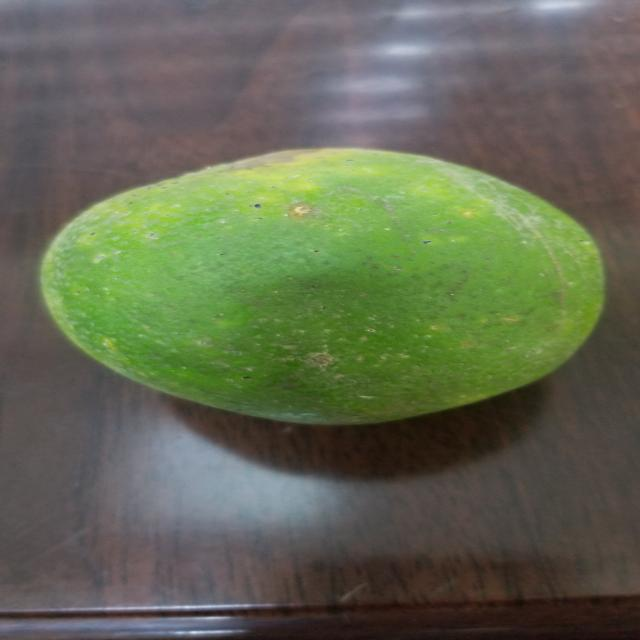Ripe orange: (45, 133, 640, 430)
